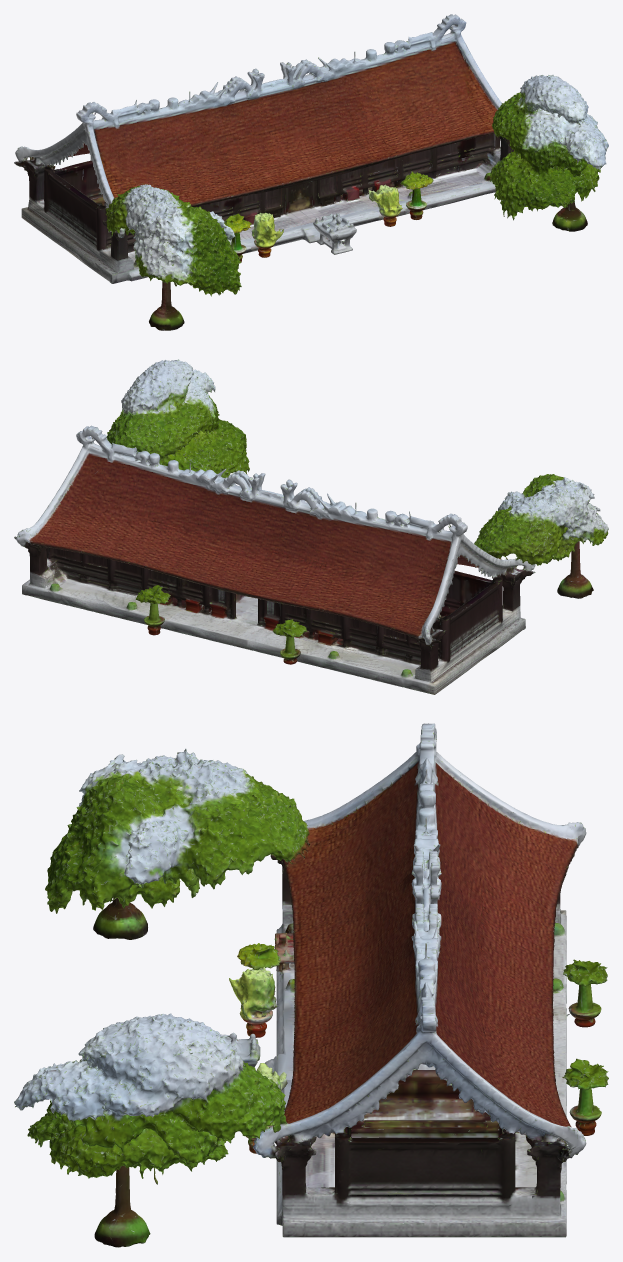
File: dinhhk.glb
3 views of the same model, one above another, from view 1: azimuth 30°, elevation 25°; view 2: azimuth 150°, elevation 25°; view 3: azimuth 270°, elevation 25° (orthographic). The views are drawn at different scales.
Parts seen in each view (by area): view 1: Mesh_0; view 2: Mesh_0; view 3: Mesh_0.
Part boxes in pixels (x1,y1,x2,y2): Mesh_0: (14,14,608,330); Mesh_0: (14,359,608,694); Mesh_0: (14,723,608,1247).
Bounding box in the file's own units: 1.9 × 0.5609 × 1.36.
Materials: 1 (1 with a texture image).
